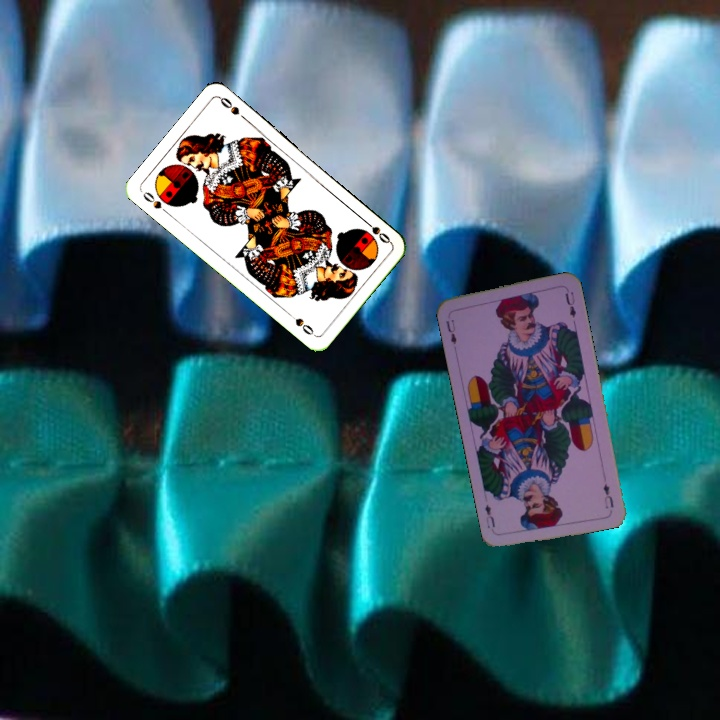EU: (442, 315, 459, 347), (599, 479, 616, 511)
SO: (359, 215, 394, 246), (139, 187, 172, 218)
